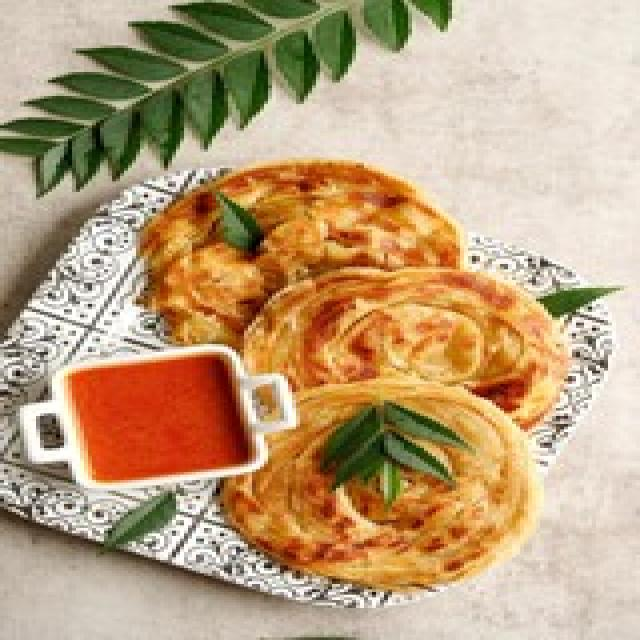KURMA: (85, 363, 229, 473)
PAROTTA: (152, 159, 568, 584)
